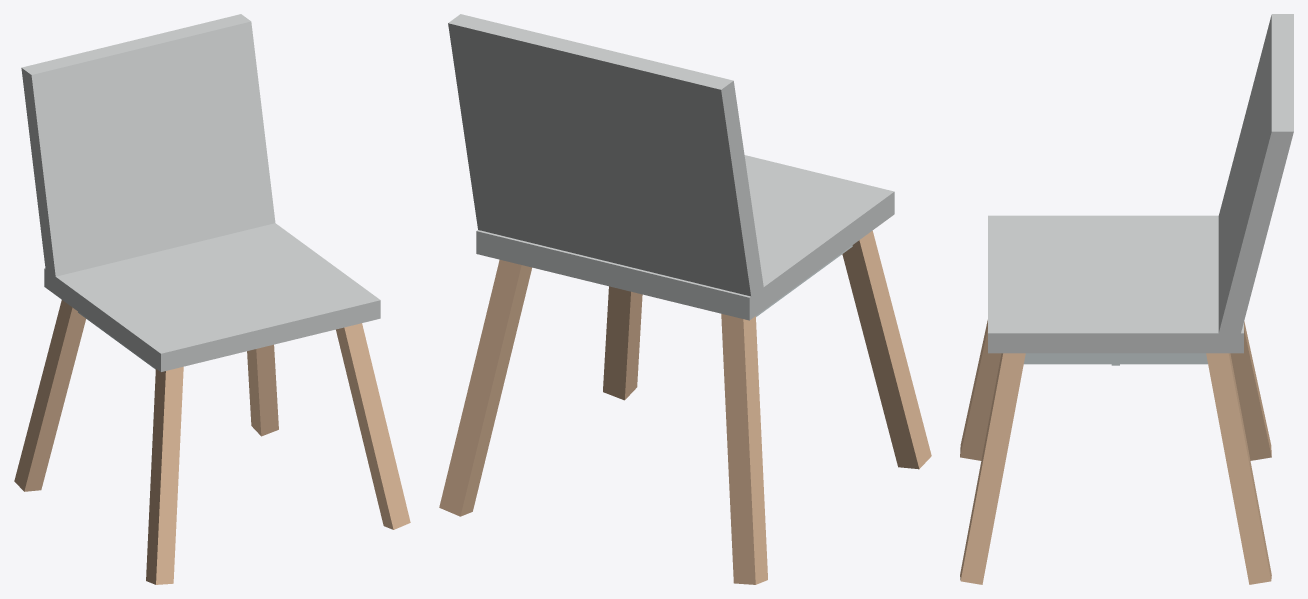
The model's file is chairShell.glb.
3 views of the same model, side by side, from view 1: azimuth 30°, elevation 25°; view 2: azimuth 150°, elevation 25°; view 3: azimuth 270°, elevation 25° (orthographic). The views are drawn at different scales.
Visible parts, largest first — view 1: chairShell; view 2: chairShell; view 3: chairShell.
Boxes of the visible parts, left/top/right/bottom form: chairShell: left=14, top=14, right=410, bottom=584; chairShell: left=439, top=14, right=931, bottom=584; chairShell: left=960, top=14, right=1293, bottom=584.
Bounding box in the file's own units: 0.2898 × 0.4433 × 0.3001.
